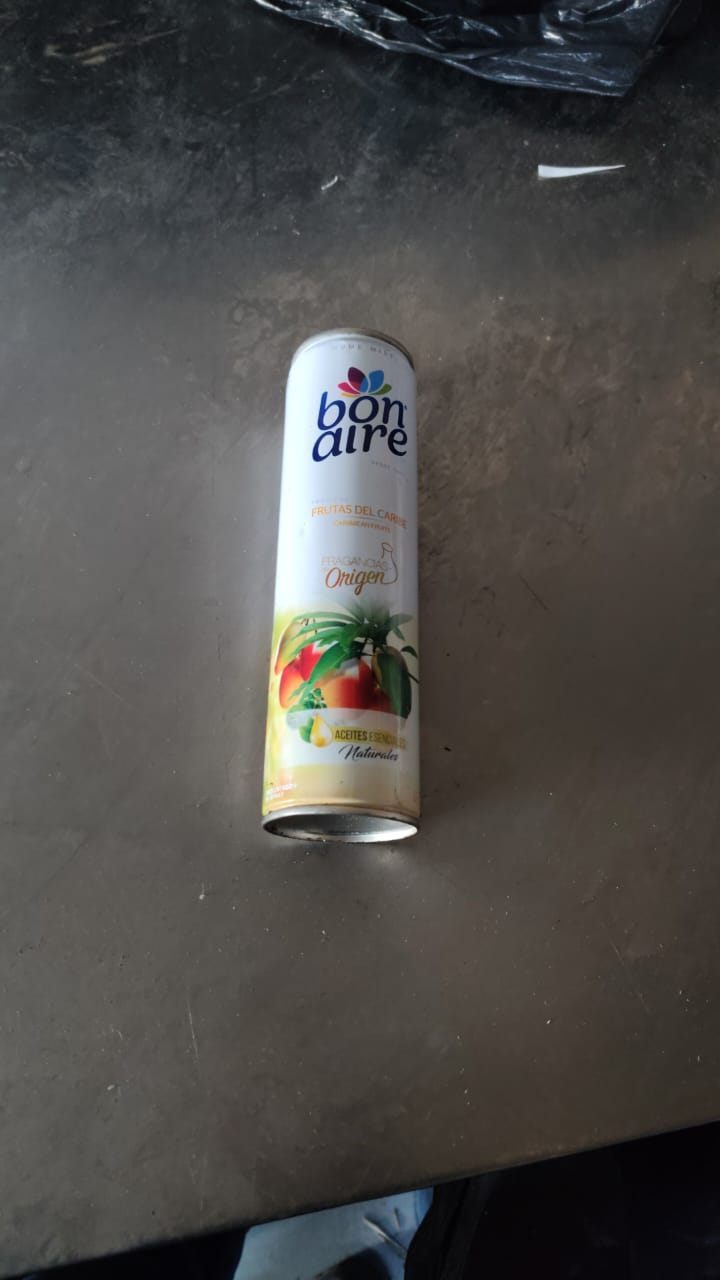Metal: (261, 327, 421, 841)
